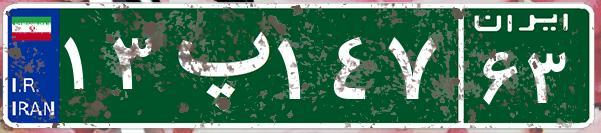1: (273, 28, 330, 110), (57, 26, 110, 107)
3: (110, 28, 158, 105), (525, 38, 570, 115)
4: (330, 28, 385, 110)
6: (475, 38, 525, 113)
7: (385, 28, 445, 110)
پ: (158, 15, 273, 115)
